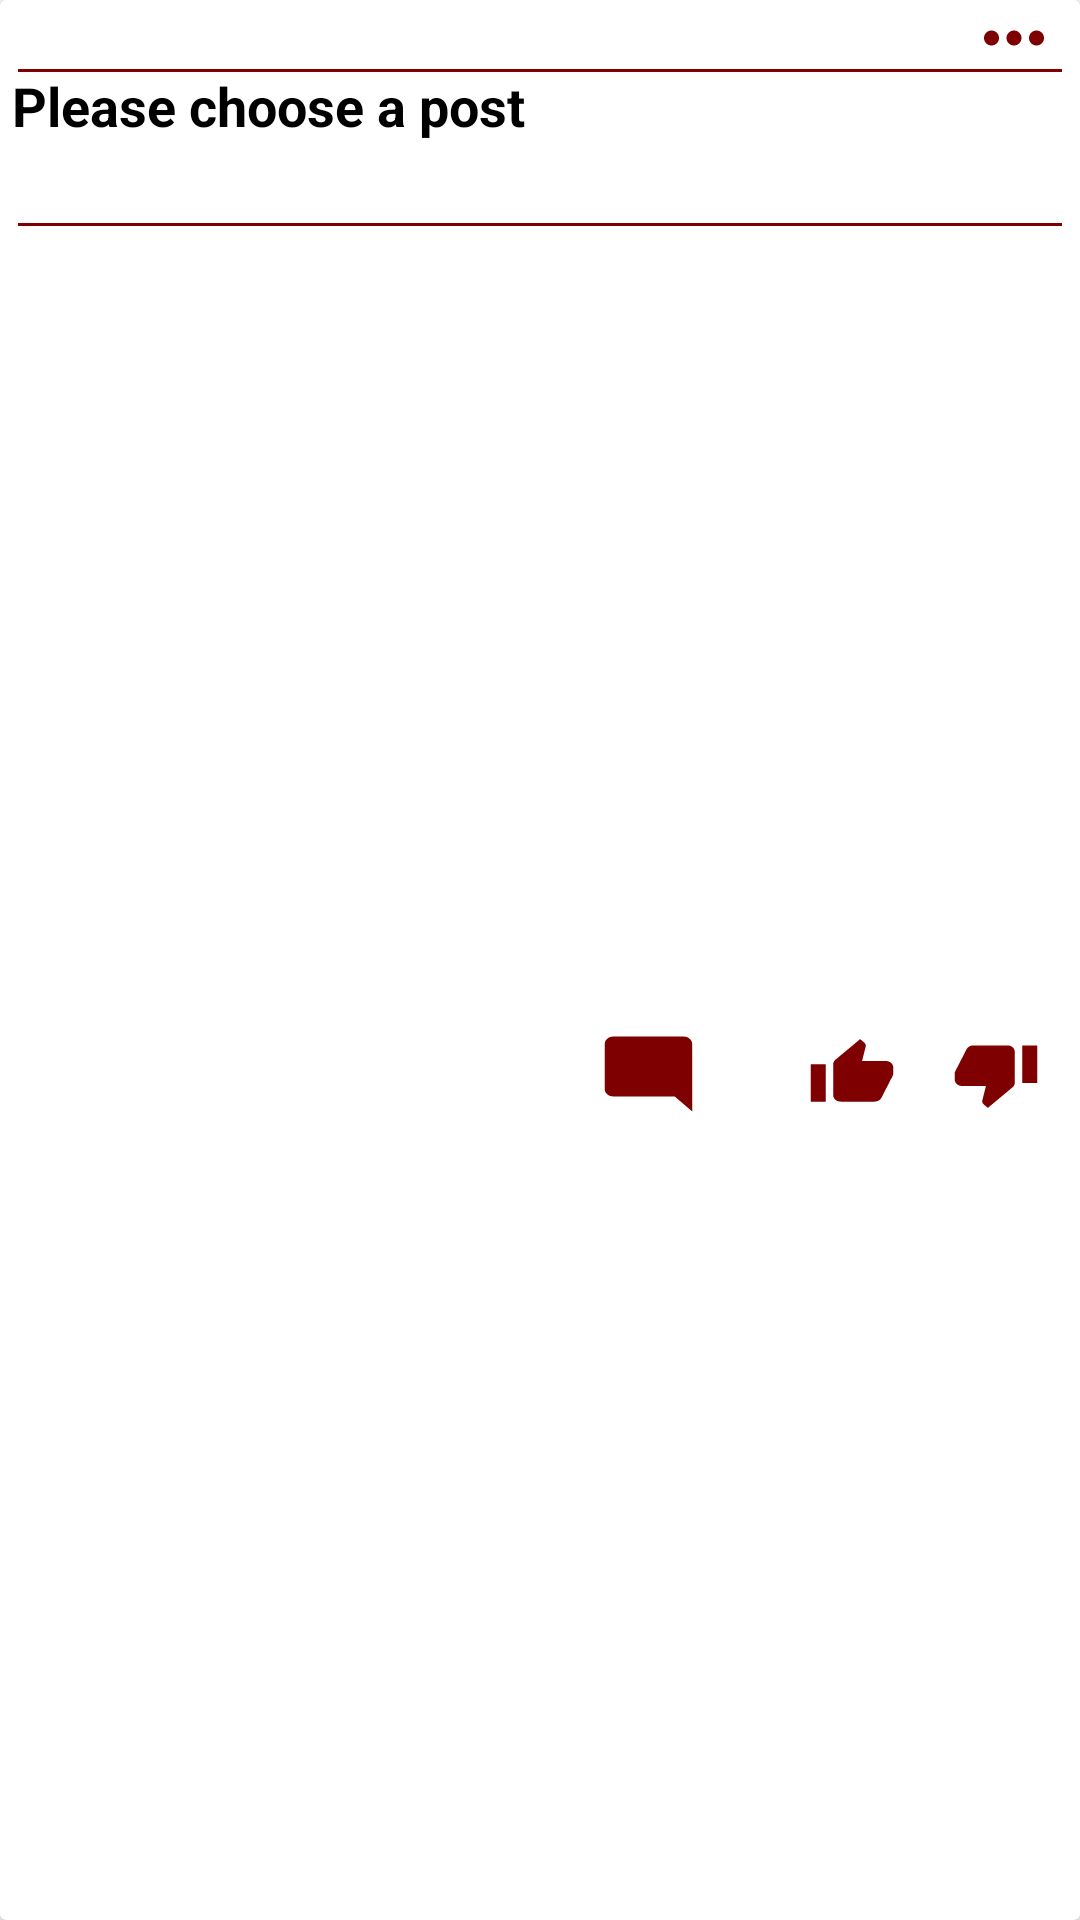

Icon click points for this 1080 × 1920 phone screenshot, format [x,y]:
Down vote post: [996,1076]
Post options: [1014,38]
See comments: [648,1074]
Up vote post: [852,1070]
